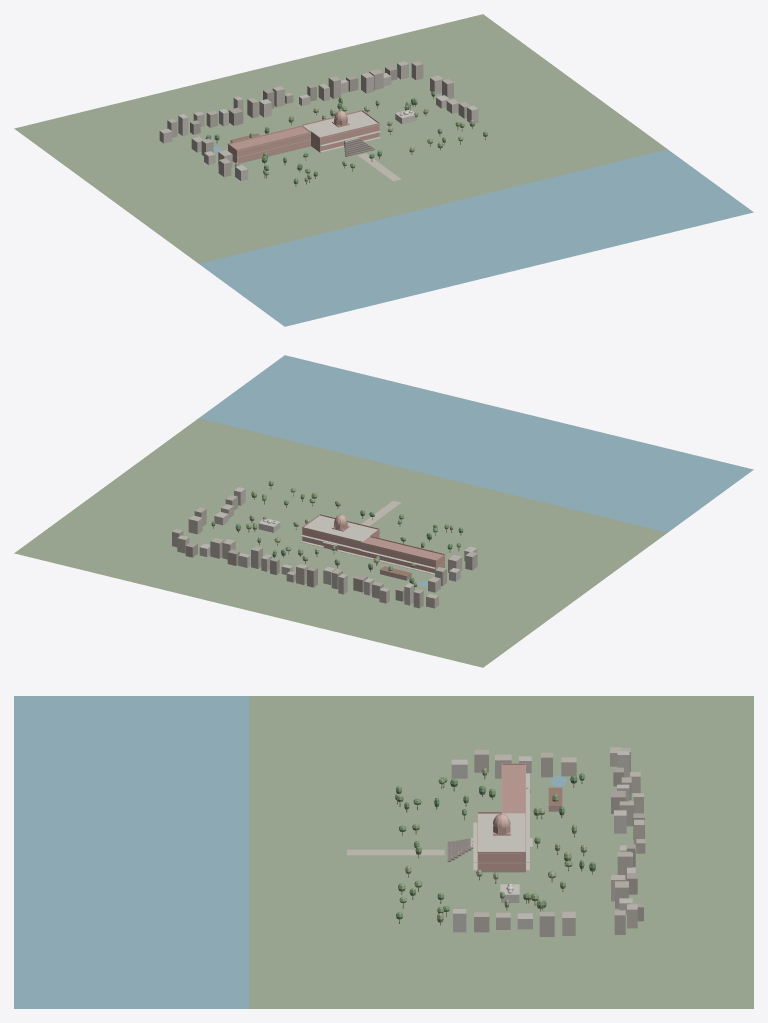
Rendered from ahsan-manzil-lod1.glb.
3 renders of one model, top to bottom at view 1: azimuth 30°, elevation 25°; view 2: azimuth 150°, elevation 25°; view 3: azimuth 270°, elevation 25°, orthographic. The views are drawn at different scales.
Visible parts, largest first — view 1: Site_Ground, Site_River, Site_Context_Blocks, Site_Trees, Rangmahal_FF, Parapet, Andarmahal; view 2: Site_Ground, Site_River, Site_Context_Blocks, Site_Trees, Rangmahal_FF, Parapet, Andarmahal, Veranda_N; view 3: Site_Ground, Site_River, Site_Context_Blocks, Site_Trees, Rangmahal_FF, Parapet, Site_Approach.
Boxes of the visible parts, left/top/right/bottom form: Site_Ground: left=14, top=14, right=667, bottom=263; Site_River: left=199, top=149, right=753, bottom=326; Site_Context_Blocks: left=159, top=61, right=478, bottom=180; Site_Trees: left=205, top=91, right=487, bottom=186; Rangmahal_FF: left=302, top=111, right=379, bottom=145; Parapet: left=227, top=110, right=379, bottom=150; Andarmahal: left=228, top=133, right=310, bottom=162; Site_Ground: left=14, top=418, right=667, bottom=667; Site_River: left=199, top=355, right=753, bottom=532; Site_Context_Blocks: left=172, top=487, right=477, bottom=608; Site_Trees: left=211, top=481, right=463, bottom=589; Rangmahal_FF: left=302, top=515, right=379, bottom=549; Parapet: left=302, top=514, right=445, bottom=561; Andarmahal: left=361, top=543, right=444, bottom=572; Veranda_N: left=301, top=535, right=435, bottom=574; Site_Ground: left=249, top=696, right=753, bottom=1008; Site_River: left=14, top=696, right=249, bottom=1008; Site_Context_Blocks: left=451, top=747, right=645, bottom=936; Site_Trees: left=395, top=768, right=595, bottom=925; Rangmahal_FF: left=477, top=813, right=525, bottom=862; Parapet: left=477, top=763, right=525, bottom=853; Site_Approach: left=347, top=849, right=444, bottom=855.
Size of the model in its own units: 440 by 27.13 by 440.
